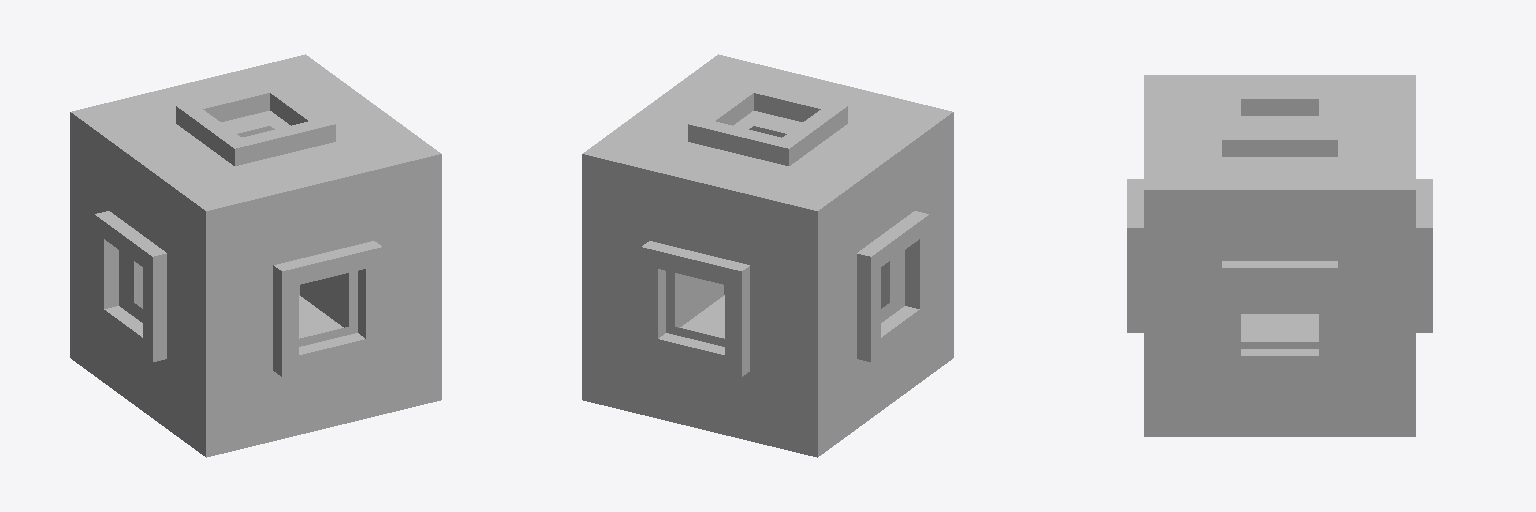
The model's file is ModelPressureChamberCore_2.obj.
The picture shows the model from 3 angles: view 1: azimuth 30°, elevation 25°; view 2: azimuth 150°, elevation 25°; view 3: azimuth 270°, elevation 25°; orthographic projection.
Bounding box in the file's own units: 0.985 × 0.9995 × 0.9847.